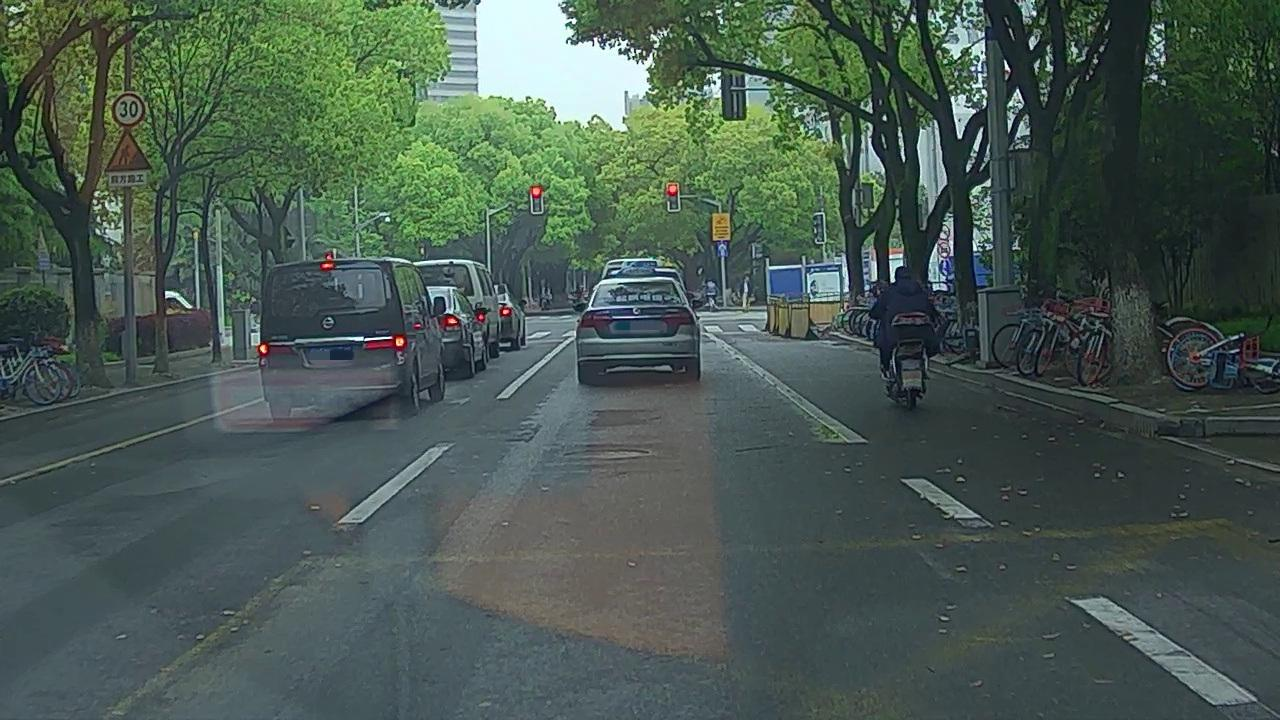traffic_light: (529, 186, 541, 213), (669, 183, 678, 211)
